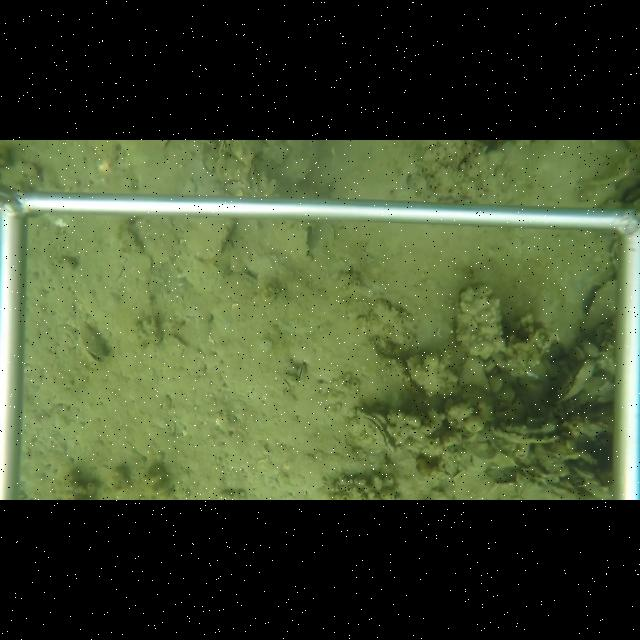Oyster-Closed: (182, 216, 239, 262), (556, 358, 600, 406), (579, 280, 614, 334), (296, 360, 309, 386)
Oyster-Open: (348, 410, 400, 459), (516, 465, 587, 499), (487, 420, 564, 446), (76, 321, 115, 367)
